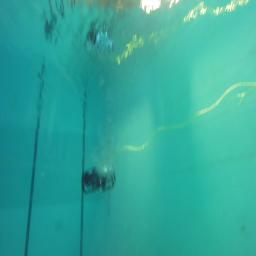back: (81, 164, 116, 192)
